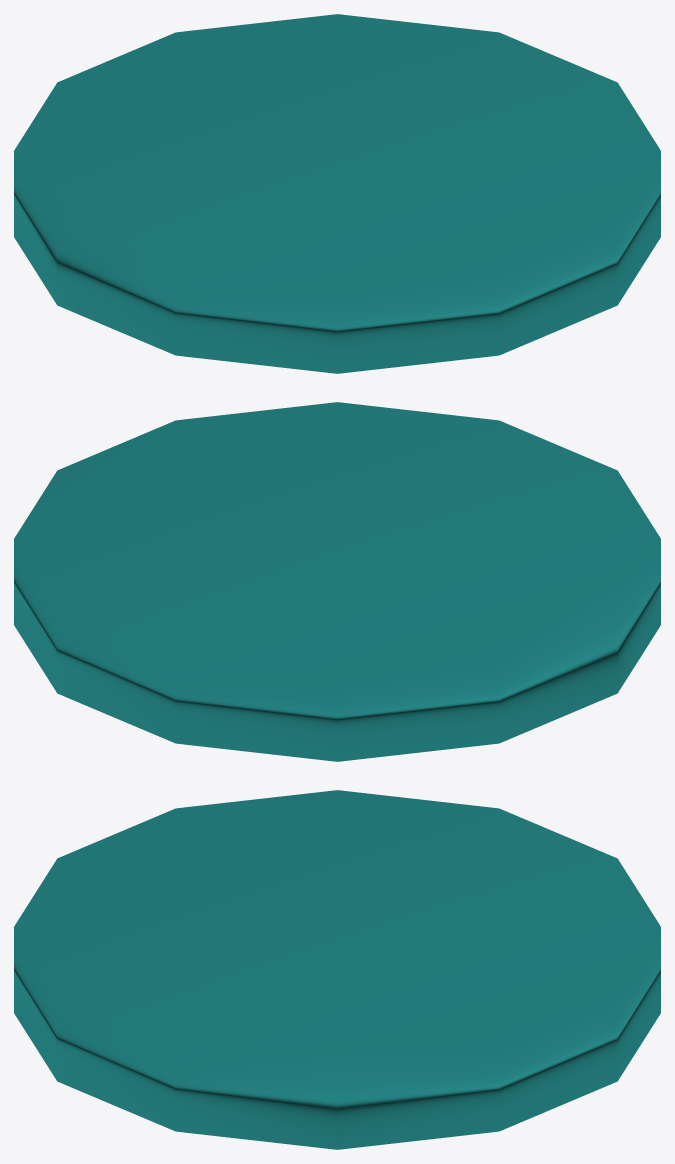
The model's file is barbell_plate_collider.fbx.
3 renders of one model, top to bottom at view 1: azimuth 30°, elevation 25°; view 2: azimuth 150°, elevation 25°; view 3: azimuth 270°, elevation 25°, orthographic.
Parts seen in each view (by area): view 1: barbell_plate_collider; view 2: barbell_plate_collider; view 3: barbell_plate_collider.
Part boxes in pixels (x1,y1,x2,y2): barbell_plate_collider: [14, 14, 660, 373]; barbell_plate_collider: [14, 402, 660, 761]; barbell_plate_collider: [14, 790, 660, 1149].
Size of the model in its own units: 42.68 by 6.29 by 42.68.
